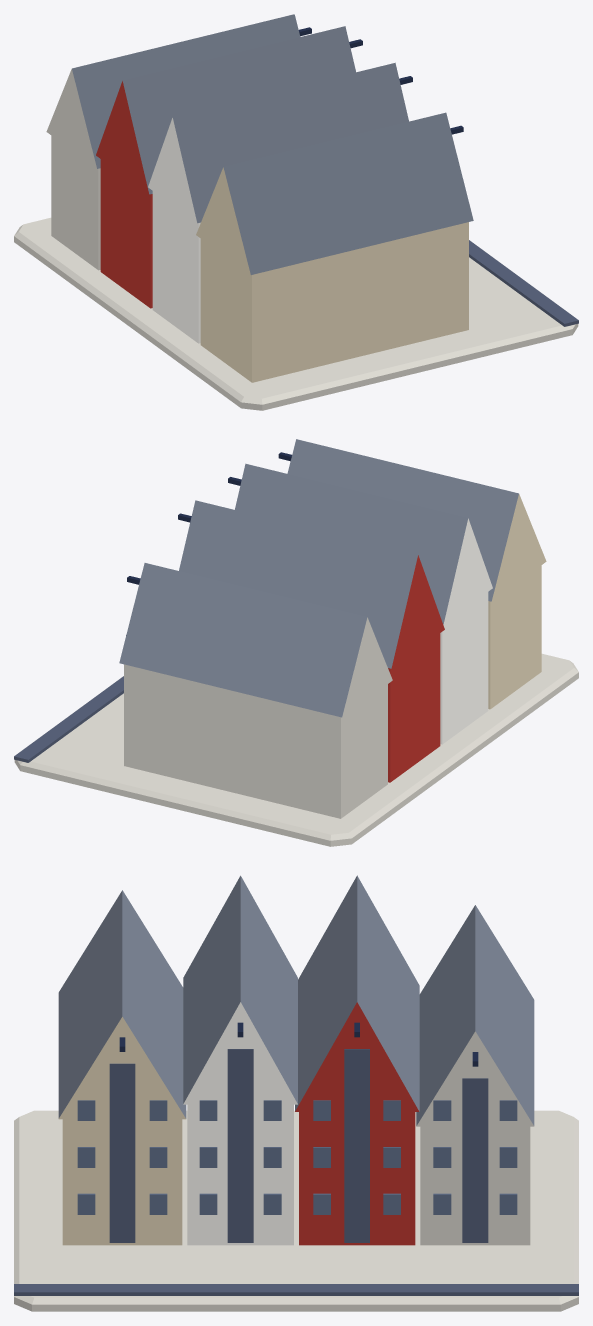
The model's file is bergen.glb.
3 renders of one model, top to bottom at view 1: azimuth 30°, elevation 25°; view 2: azimuth 150°, elevation 25°; view 3: azimuth 270°, elevation 25°, orthographic. The views are drawn at different scales.
Parts seen in each view (by area): view 1: model; view 2: model; view 3: model.
Part boxes in pixels (<box>): model: <box>14,14,578,410</box>; model: <box>14,439,578,846</box>; model: <box>14,875,578,1311</box>.
Size of the model in its own units: 28 by 17.5 by 34.9.
